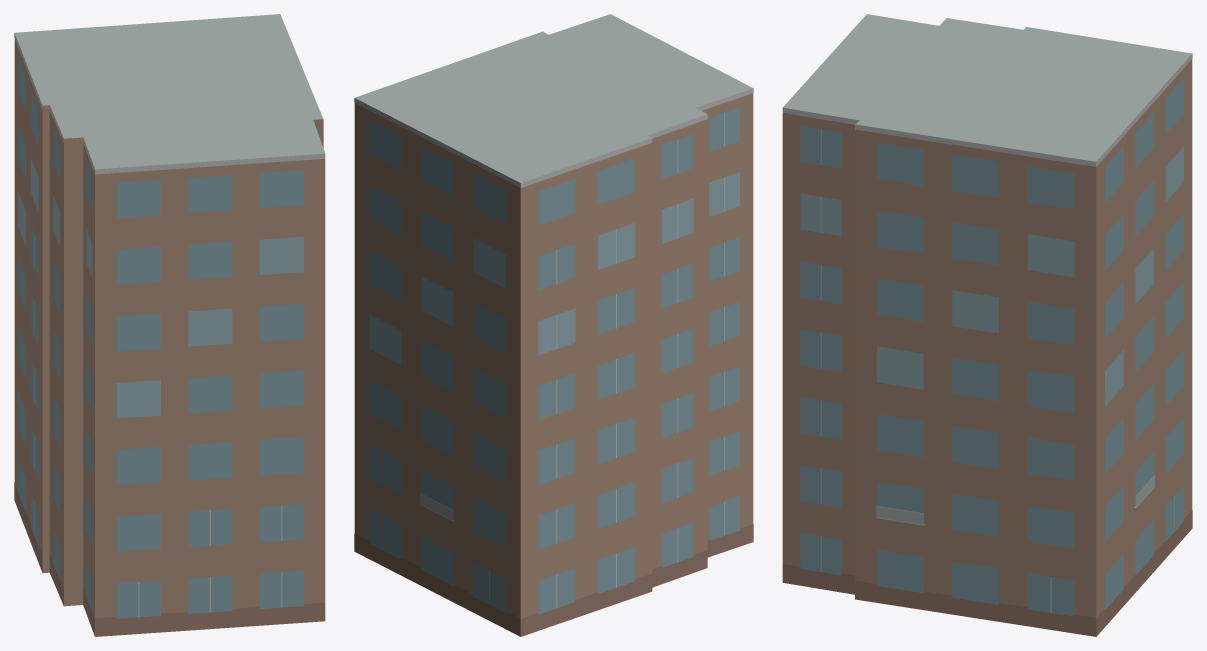
File: survey-upis-32618503.glb
3 views of the same model, side by side, from view 1: azimuth 30°, elevation 25°; view 2: azimuth 150°, elevation 25°; view 3: azimuth 270°, elevation 25° (orthographic). The views are drawn at different scales.
Parts seen in each view (by area): view 1: survey-upis-32618503.tmp; view 2: survey-upis-32618503.tmp; view 3: survey-upis-32618503.tmp.
Part boxes in pixels (<box>): survey-upis-32618503.tmp: <box>14,14,325,636</box>; survey-upis-32618503.tmp: <box>354,14,753,636</box>; survey-upis-32618503.tmp: <box>782,14,1192,636</box>.
Size of the model in its own units: 14.99 by 22.45 by 17.56.
